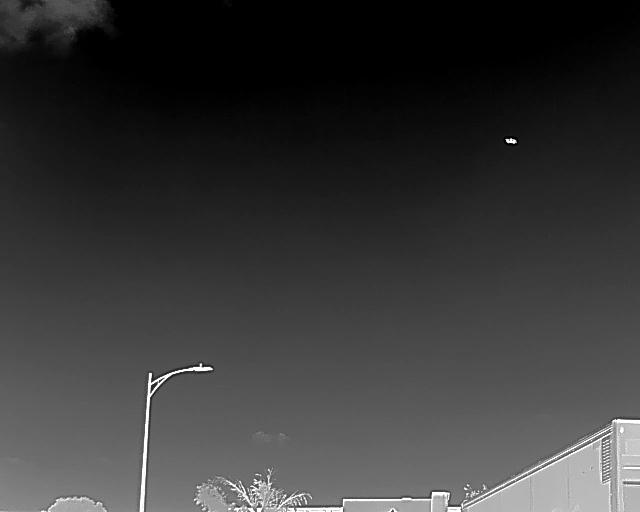fpv-drone: (504, 137, 518, 145)
